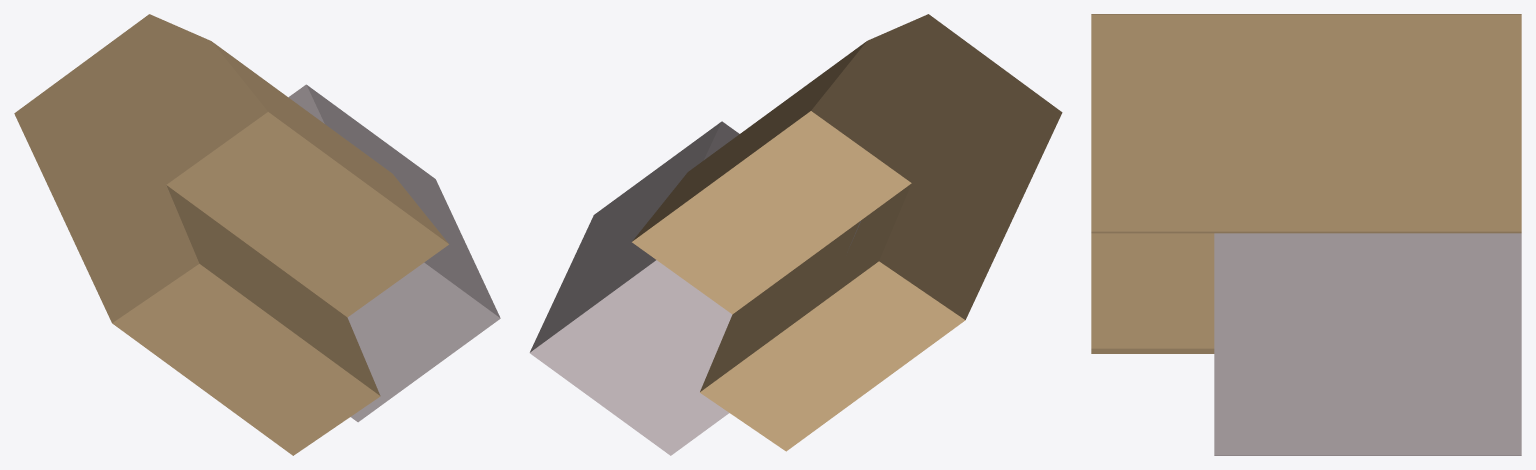
3 views of the same model, side by side, from view 1: azimuth 30°, elevation 25°; view 2: azimuth 150°, elevation 25°; view 3: azimuth 270°, elevation 25° (orthographic). The views are drawn at different scales.
Parts seen in each view (by area): view 1: 0_3_0_1_1_2_1_3_3_3; view 2: 0_3_0_1_1_2_1_3_3_3; view 3: 0_3_0_1_1_2_1_3_3_3.
Part boxes in pixels (left/top/right/bottom): 0_3_0_1_1_2_1_3_3_3: left=14, top=14, right=500, bottom=455; 0_3_0_1_1_2_1_3_3_3: left=529, top=14, right=1062, bottom=455; 0_3_0_1_1_2_1_3_3_3: left=1091, top=14, right=1521, bottom=455.
Size of the model in its own units: 23.9 by 21.3 by 21.
